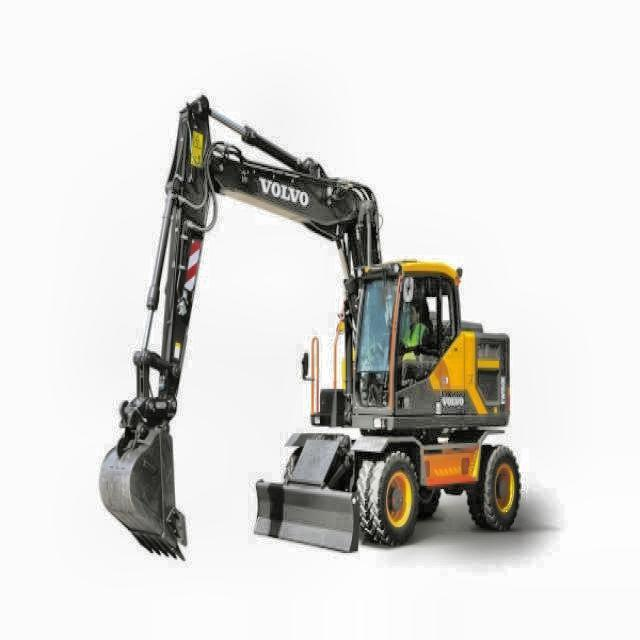bull_dozer/loader/grader: (100, 91, 522, 564)
person: (393, 298, 433, 374)
